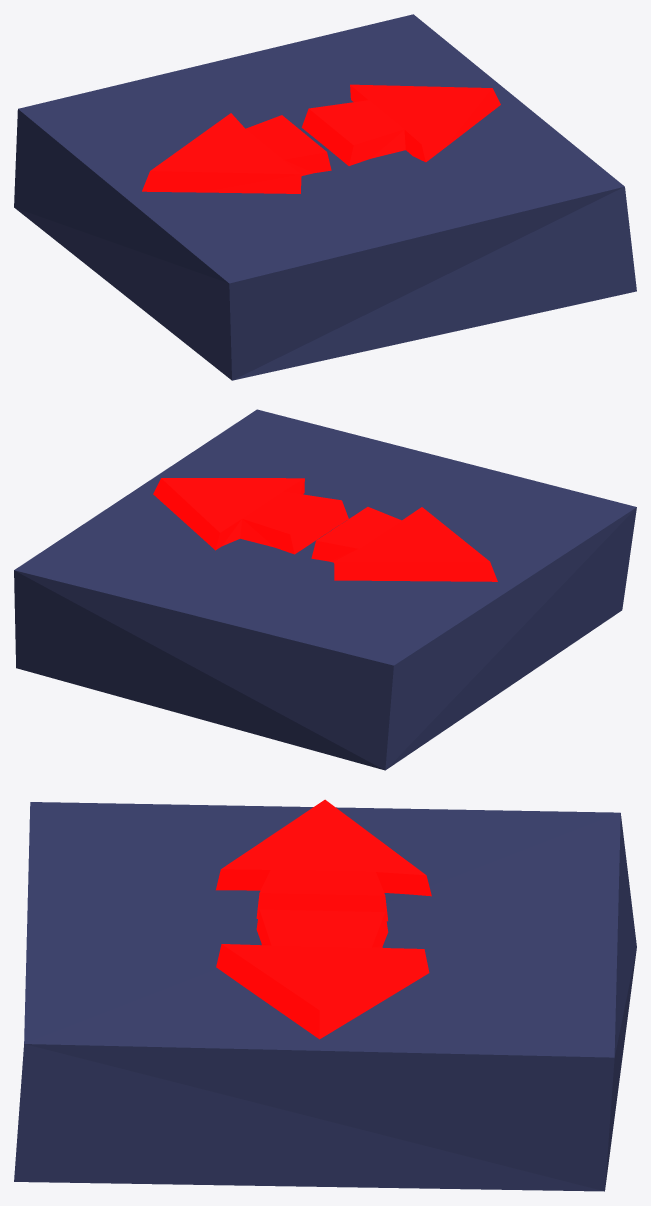
Rendered from WallDragDecal.FBX.
The picture shows the model from 3 angles, top to bottom: view 1: azimuth 30°, elevation 25°; view 2: azimuth 150°, elevation 25°; view 3: azimuth 270°, elevation 25°; orthographic projection. The views are drawn at different scales.
Visible parts, largest first — view 1: Object062; view 2: Object062; view 3: Object062.
Boxes of the visible parts, box(x1,y1,x2,y2) form: Object062: box(14, 14, 636, 380); Object062: box(14, 409, 636, 770); Object062: box(14, 799, 636, 1191).
Size of the model in its own units: 40.26 by 11.58 by 41.
